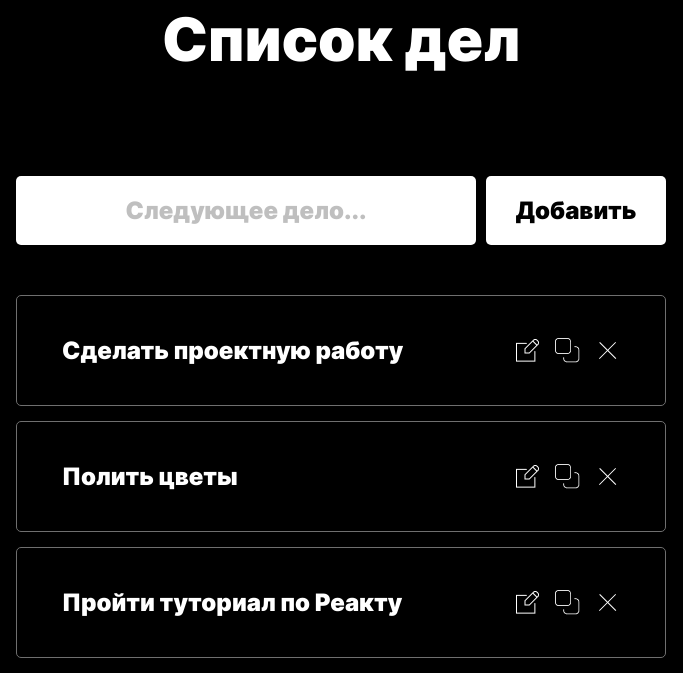
Scenario: удаляет задачу по кнопке
The image size is (683, 673).
What coordinates should you click on to do the following:
click the button named "Удалить" in the row of "Сделать проектную работу"
I would click on:
 (608, 350)
Its box is [595,338,620,363].
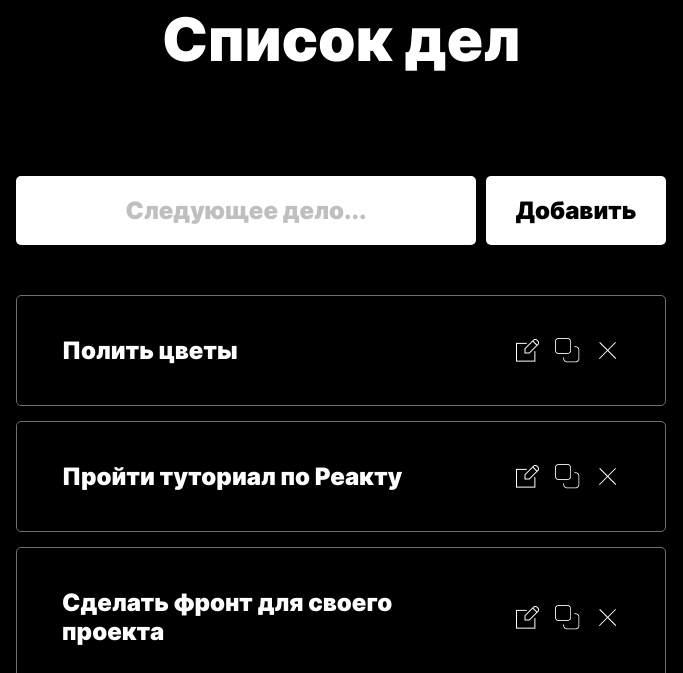
Result: the text "Сделать проектную работу" is gone
